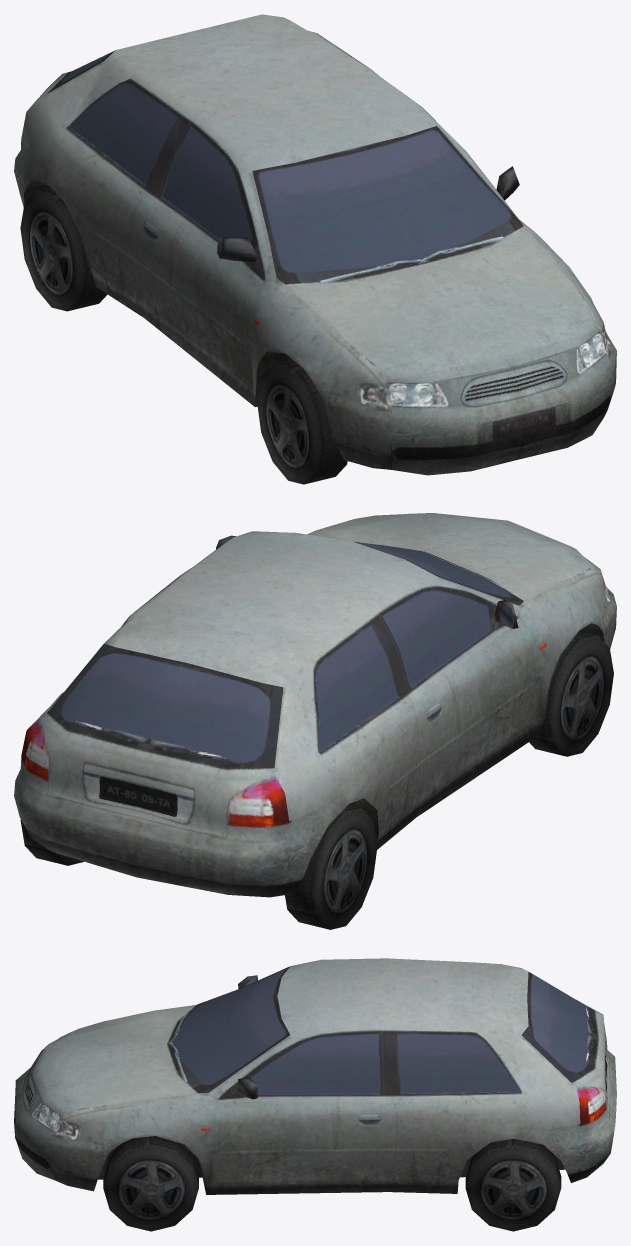
The model's file is Car 02.FBX.
3 views of the same model, one above another, from view 1: azimuth 30°, elevation 25°; view 2: azimuth 150°, elevation 25°; view 3: azimuth 270°, elevation 25° (orthographic). The views are drawn at different scales.
Visible parts, largest first — view 1: Car 02; view 2: Car 02; view 3: Car 02.
Part boxes in pixels (x1,y1,x2,y2): Car 02: (14, 14, 616, 484); Car 02: (14, 513, 616, 929); Car 02: (14, 958, 616, 1231).
Size of the model in its own units: 19.38 by 15.13 by 43.79.
